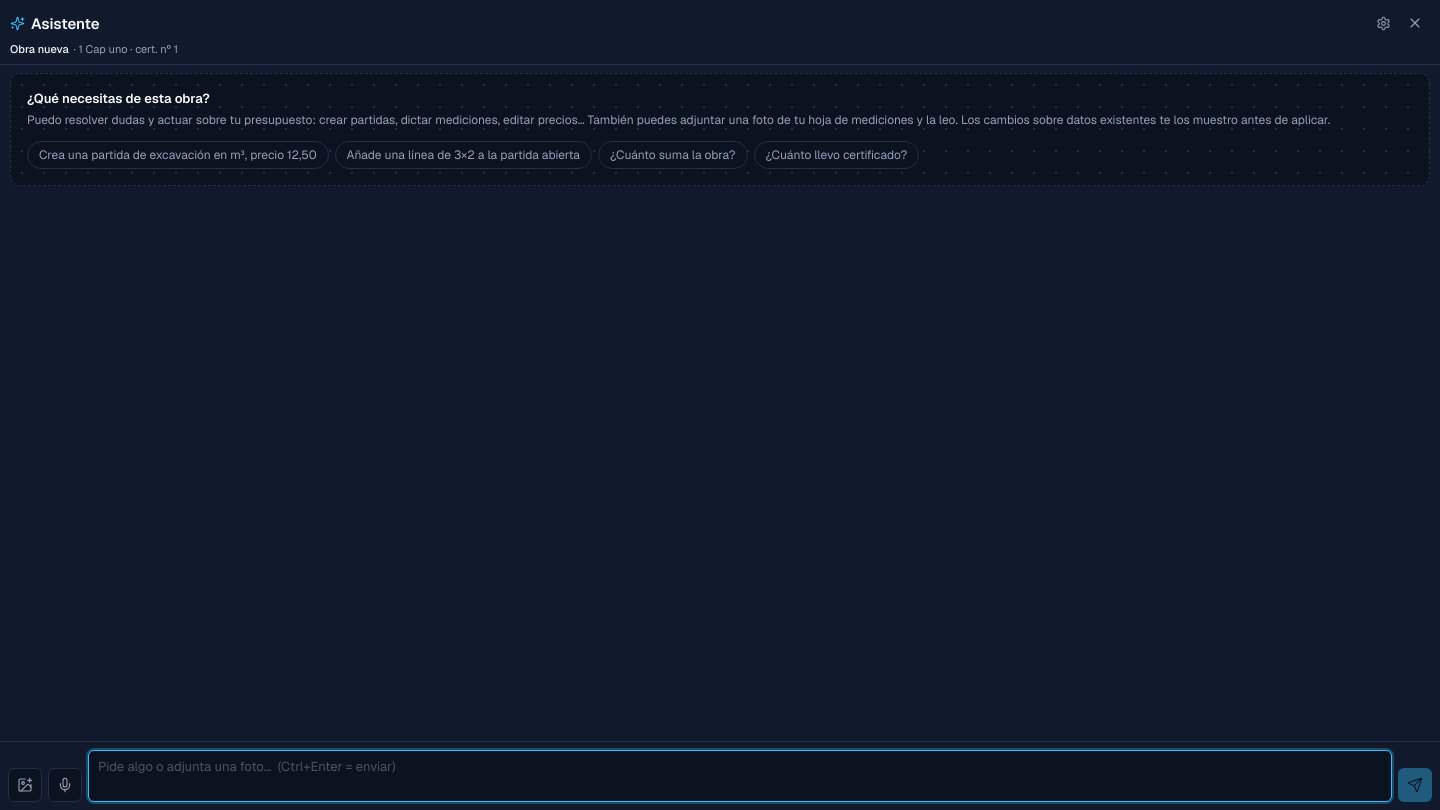
Scenario: AsistenteChat · ops (integración) › op mal formada del modelo → se descarta con motivo en el informe (no muta)
This screenshot has width=1440, height=810.
Type "crea algo raro" into the text box named "Escribe tu consulta o una orden" at (740, 776), box [88,750,1392,802]
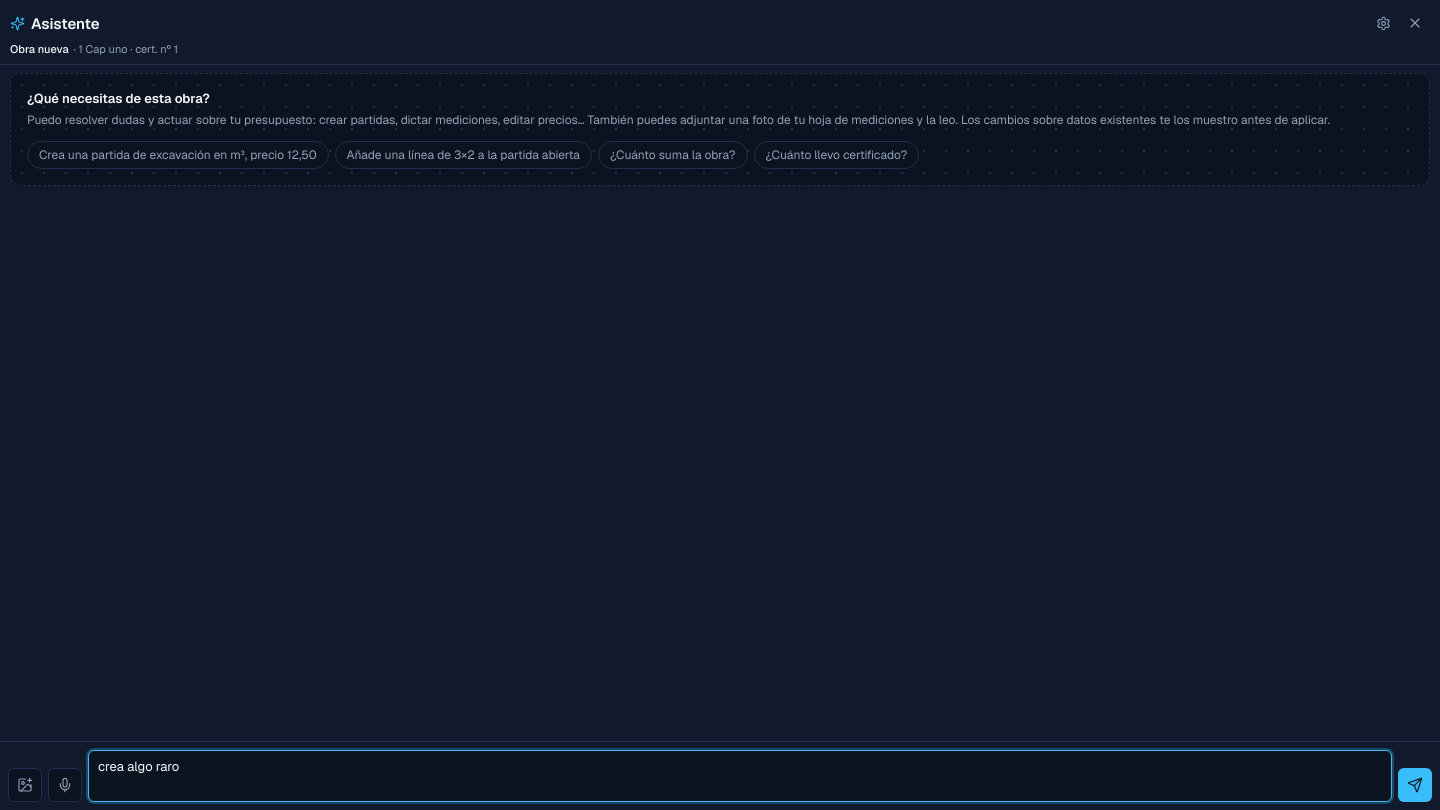
Click the button named "Enviar" at (1415, 785), box [1398,768,1432,802]
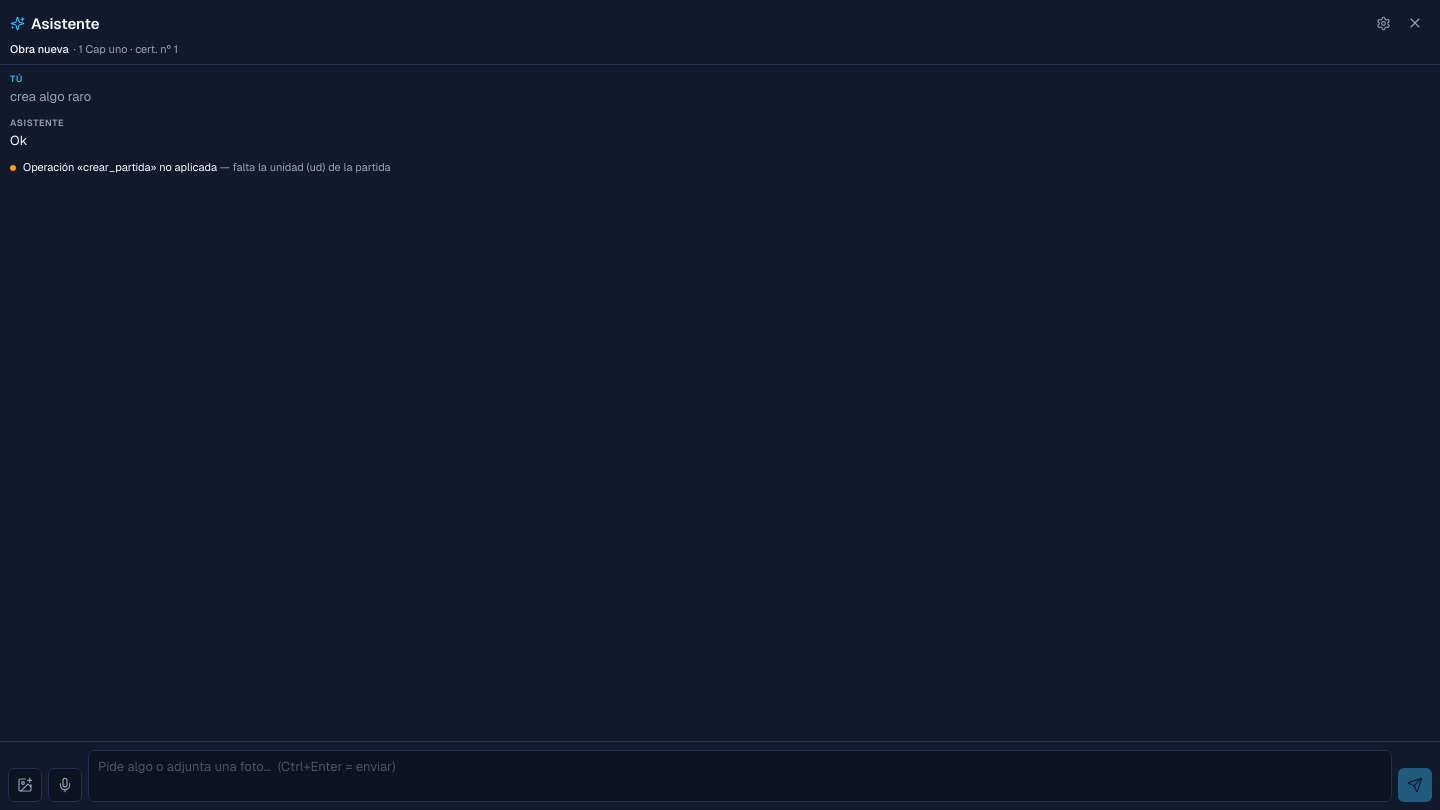
Expected: the text "no aplicada" is shown, [23,160,217,174]
